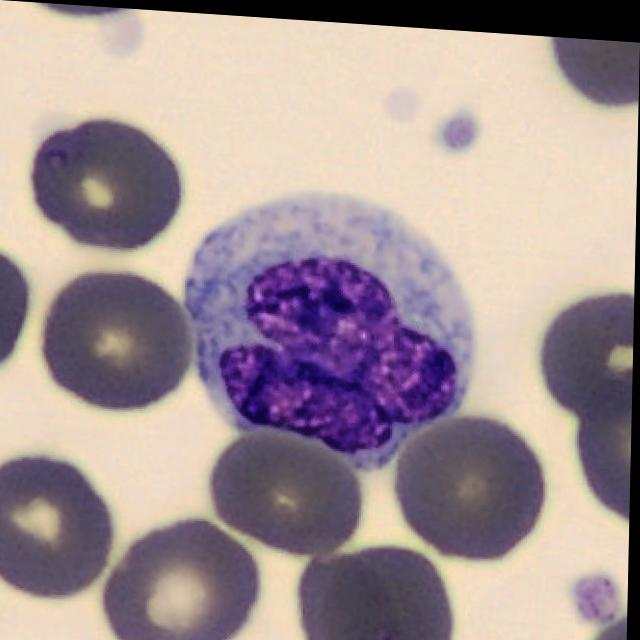Linfocito atipico: (186, 187, 478, 467)
